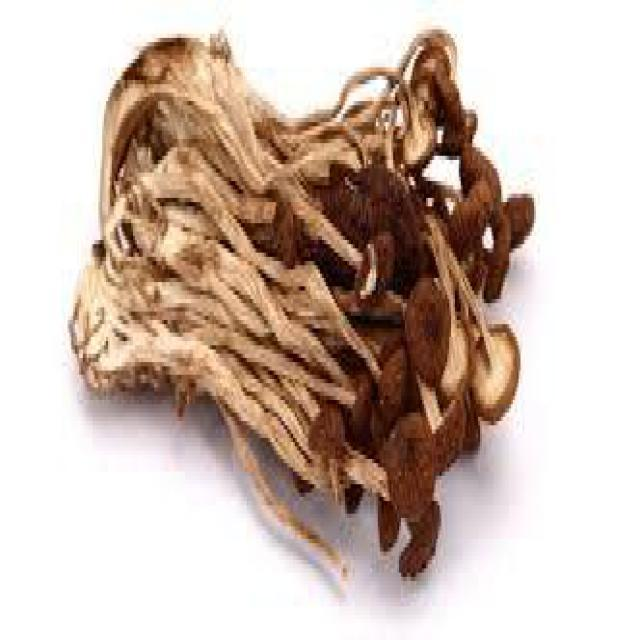Agrocybe aegerita: (72, 30, 535, 588)
